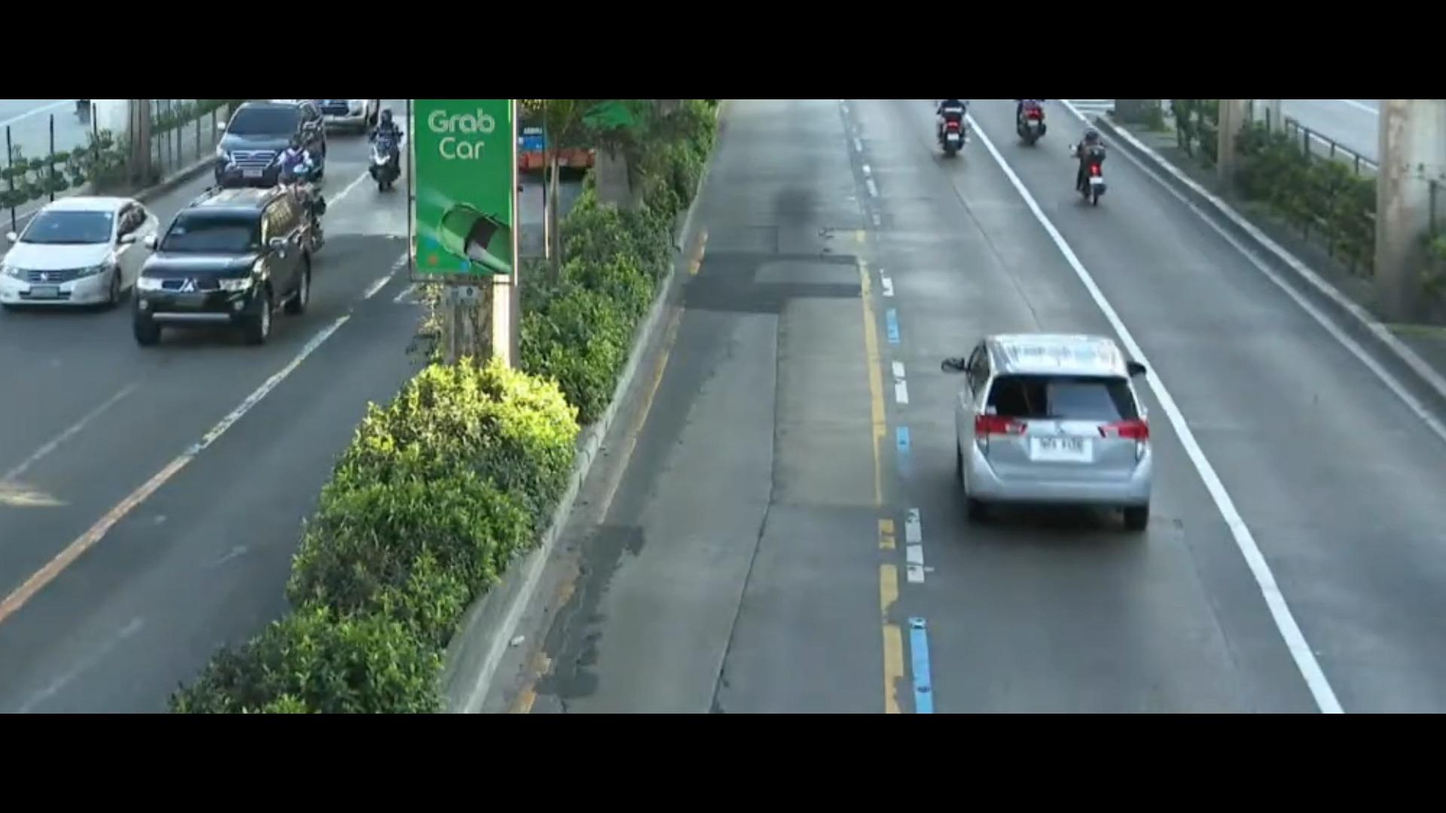Motorcycle: (1064, 121, 1125, 230), (362, 101, 425, 185), (929, 96, 995, 165), (991, 86, 1057, 145)
SUV: (927, 329, 1175, 551), (127, 161, 322, 358), (208, 96, 332, 179)
Sedan: (0, 174, 171, 318)
